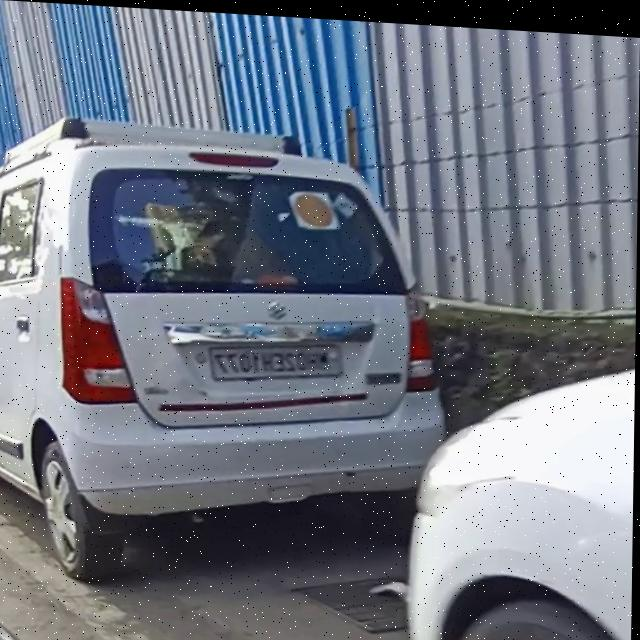plate: (209, 333, 346, 383)
